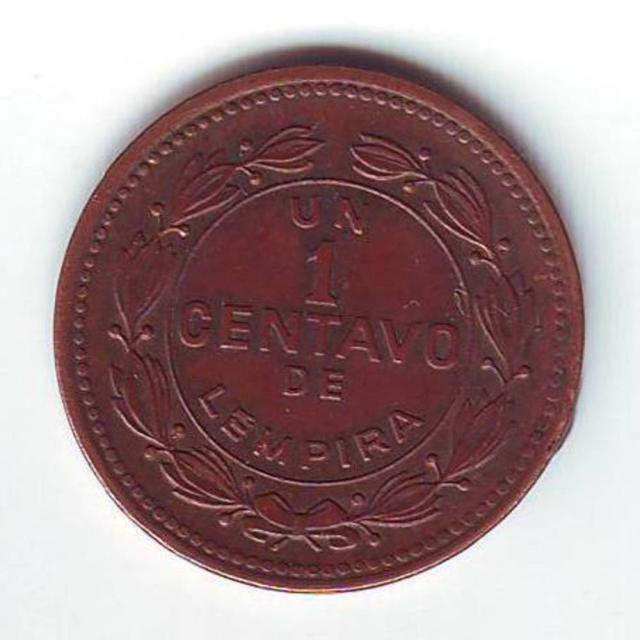Coin: (51, 63, 584, 597)
